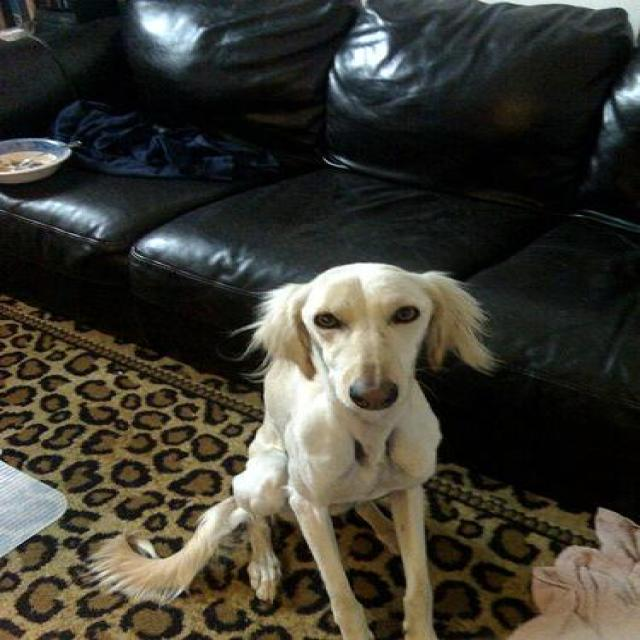saluki: (89, 260, 503, 637)
